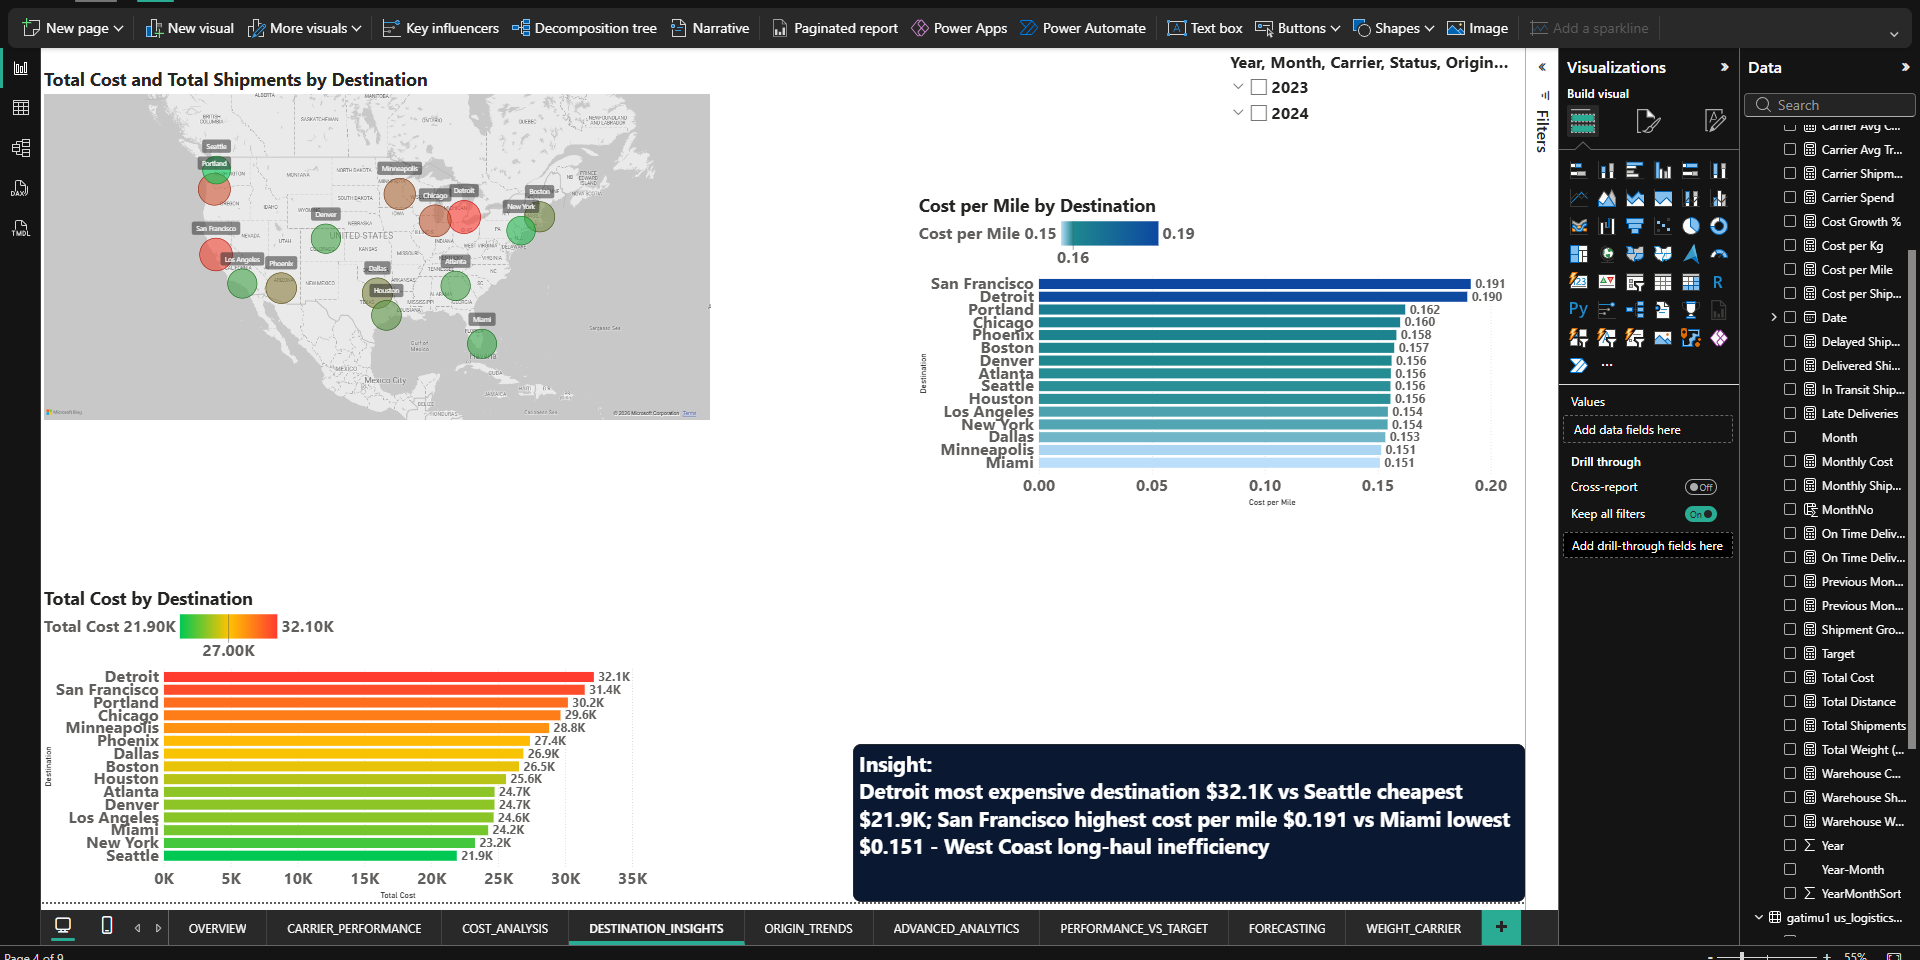

Layout of this report page (visuals, bound fields, positions):
{"tool":"powerbi","page":{"name":"DESTINATION_INSIGHTS","canvas":[2680,1542],"ordinal":3},"visuals":[{"type":"map","fields":{"Size":["Calendar.Total Cost"],"Category":["gatimu1 us_logistics_shipments.Destination"]},"box":[0,34.3,1213.6,642.9],"z":0},{"type":"clusteredBarChart","fields":{"Category":["gatimu1 us_logistics_shipments.Destination"],"Y":["Calendar.Cost per Mile"]},"box":[1580.2,261.9,1099.8,570.7],"z":1000},{"type":"slicer","fields":{"Values":["Calendar.Year","Calendar.Month","gatimu1 us_logistics_shipments.Carrier","gatimu1 us_logistics_shipments.Status","gatimu1 us_logistics_shipments.Origin_warehouse","gatimu1 us_logistics_shipments.Destination"]},"box":[2134.6,0,545.4,211.3],"z":2000},{"type":"barChart","fields":{"Y":["Calendar.Total Cost"],"Category":["gatimu1 us_logistics_shipments.Destination"]},"box":[0,971.6,1099.8,570.7],"z":3000},{"type":"textbox","box":[1466.4,1256.9,1214,285],"z":4000}]}

Visuals, with their boxes on the page's 2680x1542 design canvas (x1, y1, x2, y2). These are canvas units, not pixel positions in the 1920x960 screenshot, which may show the page scaled, cropped or inside an application window:
map - Calendar.Total Cost x gatimu1 us_logistics_shipments.Destination: (x1=0, y1=34, x2=1214, y2=677)
clusteredBarChart - gatimu1 us_logistics_shipments.Destination x Calendar.Cost per Mile: (x1=1580, y1=262, x2=2680, y2=833)
slicer - Calendar.Year x Calendar.Month: (x1=2135, y1=0, x2=2680, y2=211)
barChart - Calendar.Total Cost x gatimu1 us_logistics_shipments.Destination: (x1=0, y1=972, x2=1100, y2=1542)
textbox: (x1=1466, y1=1257, x2=2680, y2=1542)
